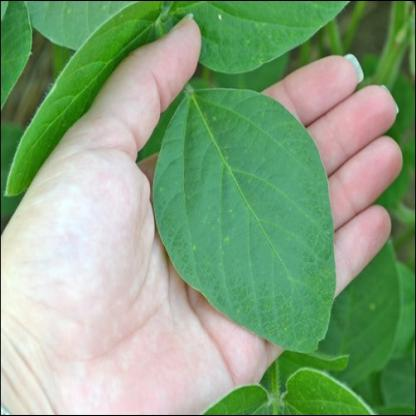soybean leaf: (153, 85, 337, 355)
